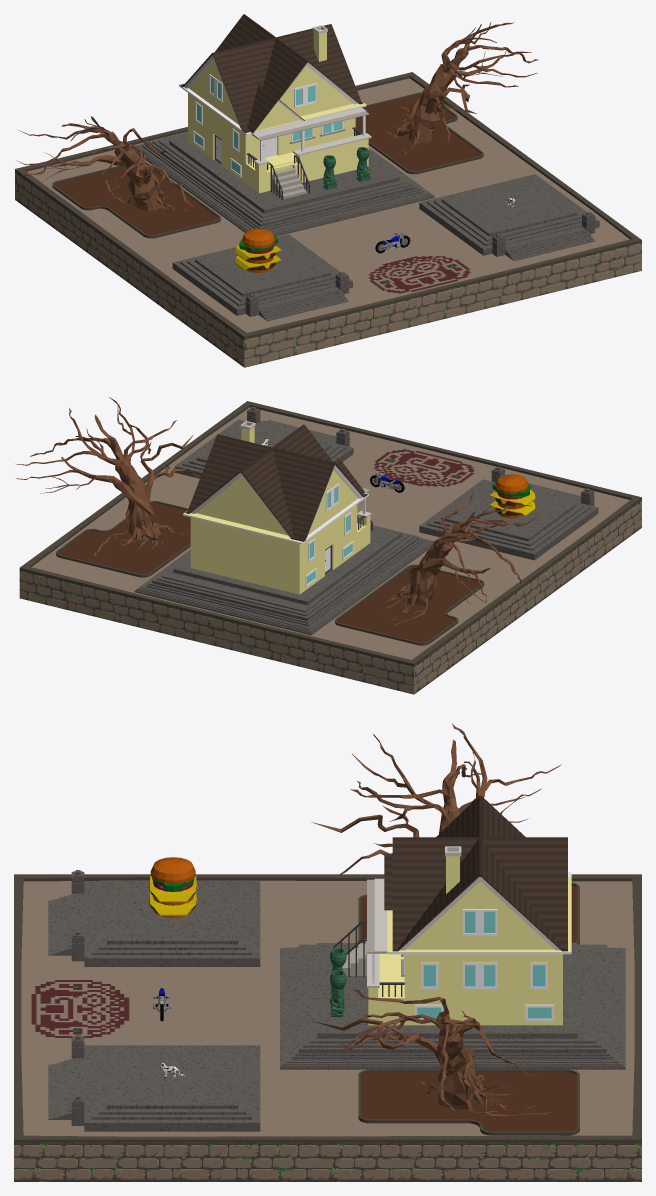
3 views of the same model, one above another, from view 1: azimuth 30°, elevation 25°; view 2: azimuth 150°, elevation 25°; view 3: azimuth 270°, elevation 25° (orthographic). The views are drawn at different scales.
Visible parts, largest first — view 1: Cube.011, Cube.1555, OBJRANDOM_HAMBURGER; view 2: Cube.011, Cube.1555, OBJRANDOM_HAMBURGER; view 3: Cube.011, Cube.1555, OBJRANDOM_HAMBURGER.
Boxes of the visible parts, left/top/right/bottom form: Cube.011: left=15, top=22, right=641, bottom=367; Cube.1555: left=179, top=14, right=371, bottom=200; OBJRANDOM_HAMBURGER: left=235, top=228, right=282, bottom=272; Cube.011: left=14, top=397, right=641, bottom=694; Cube.1555: left=183, top=421, right=372, bottom=594; OBJRANDOM_HAMBURGER: left=489, top=474, right=535, bottom=518; Cube.011: left=14, top=723, right=641, bottom=1181; Cube.1555: left=333, top=795, right=571, bottom=1025; OBJRANDOM_HAMBURGER: left=148, top=857, right=197, bottom=917.
Size of the model in its own units: 5099 by 1681 by 4000.
37 materials, 6 textured.
